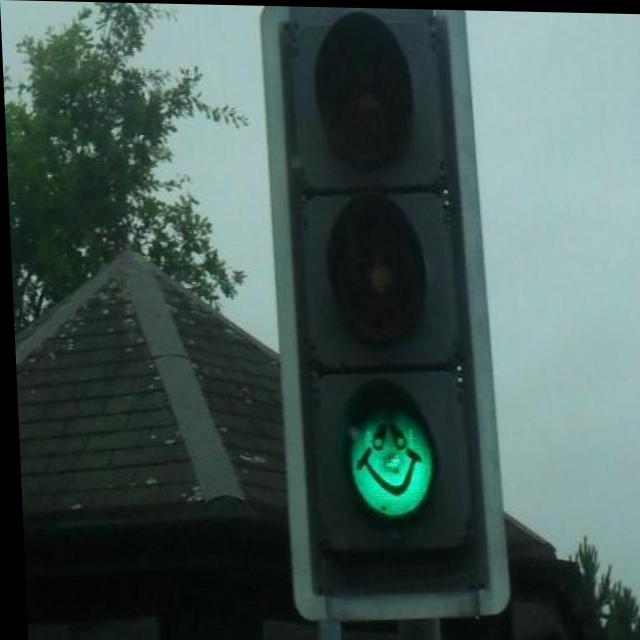green light: (287, 16, 471, 552)
